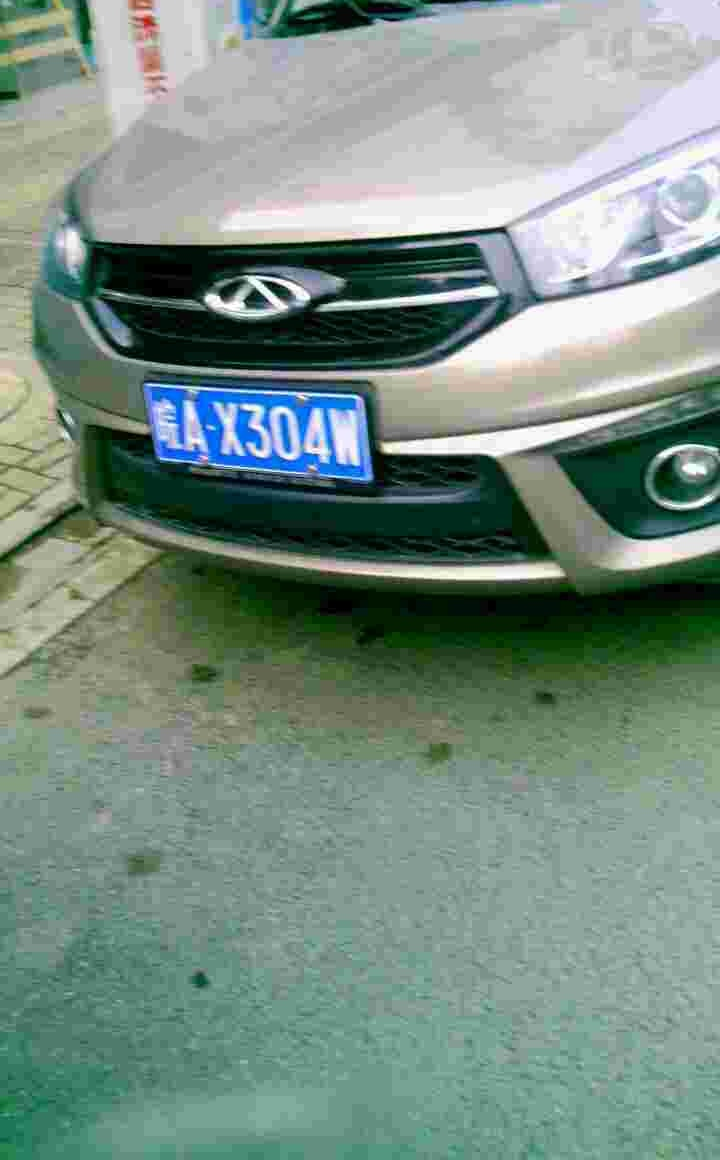plate: (139, 376, 375, 484)
